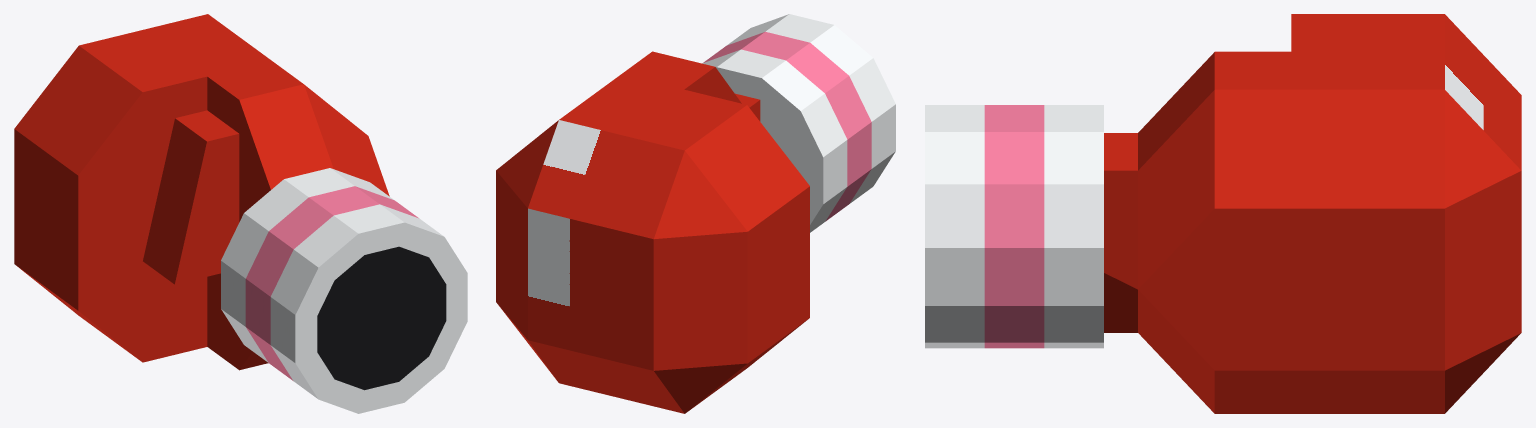
File: BoxingGlove_Right.gltf
The picture shows the model from 3 angles, left to right: view 1: azimuth 30°, elevation 25°; view 2: azimuth 150°, elevation 25°; view 3: azimuth 270°, elevation 25°; orthographic projection. The views are drawn at different scales.
Visible parts, largest first — view 1: Glove-col, SleeveOpening (×2), Sleeve, Sleeve_pART; view 2: Glove-col, Glove_selection, Sleeve, Sleeve_pART; view 3: Glove-col, Sleeve, Sleeve_pART, Glove_selection.
Boxes of the visible parts, x1,y1,x2,y2 form: Glove-col: (14, 14, 389, 370); SleeveOpening (×2): (295, 222, 467, 413); Sleeve: (221, 168, 443, 398); Sleeve_pART: (245, 186, 418, 380); Glove-col: (496, 51, 809, 413); Glove_selection: (528, 120, 684, 370); Sleeve: (702, 14, 895, 232); Sleeve_pART: (703, 31, 871, 221); Glove-col: (1104, 14, 1521, 413); Sleeve: (925, 105, 1103, 348); Sleeve_pART: (984, 105, 1044, 348); Glove_selection: (1445, 14, 1521, 170).
Bounding box in the file's own units: 0.375 × 0.375 × 0.6256.
5 materials, 5 textured.
